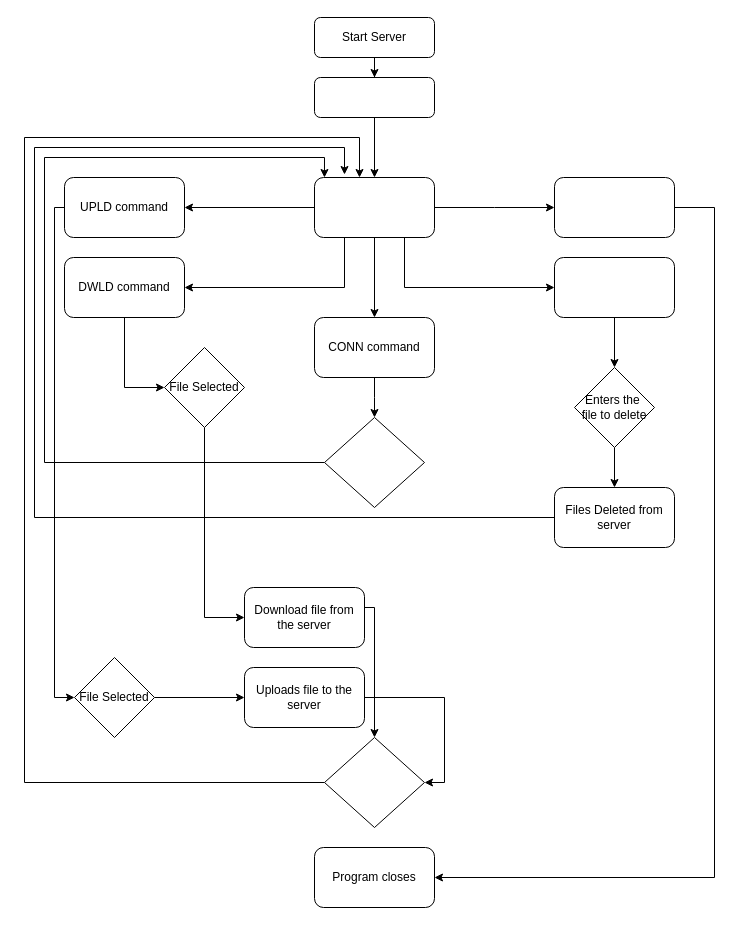
Some shapes in this 740 by 925 pixel diagram are drawn without their labels. Each missing label, with the centre of its shape:
Client connects to the server: [374,462]
DELT command: [614,287]
EXIT command: [614,207]
Menu appears: [374,207]
Run Client: [374,97]
Service Finishes: [374,782]
